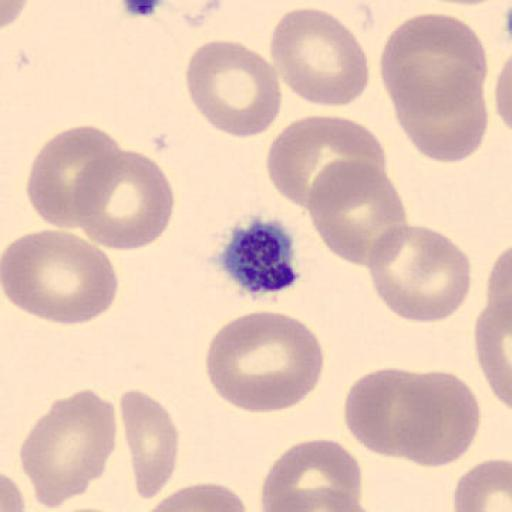Platelet: (219, 214, 302, 300)
RBC: (378, 11, 488, 165), (203, 310, 326, 416), (265, 112, 389, 212), (378, 11, 490, 120), (19, 388, 118, 509), (2, 228, 120, 326), (365, 222, 473, 325), (71, 147, 176, 252), (306, 159, 408, 266), (26, 123, 125, 230), (268, 6, 371, 108), (183, 38, 282, 140), (391, 66, 489, 164), (388, 369, 482, 469), (343, 366, 434, 466), (260, 437, 369, 512), (122, 388, 181, 502), (475, 246, 512, 416), (473, 297, 512, 414), (264, 481, 378, 512), (142, 481, 250, 512), (452, 457, 512, 512), (493, 55, 512, 132), (0, 471, 26, 512), (0, 0, 30, 31), (46, 505, 119, 512), (419, 0, 503, 6)
